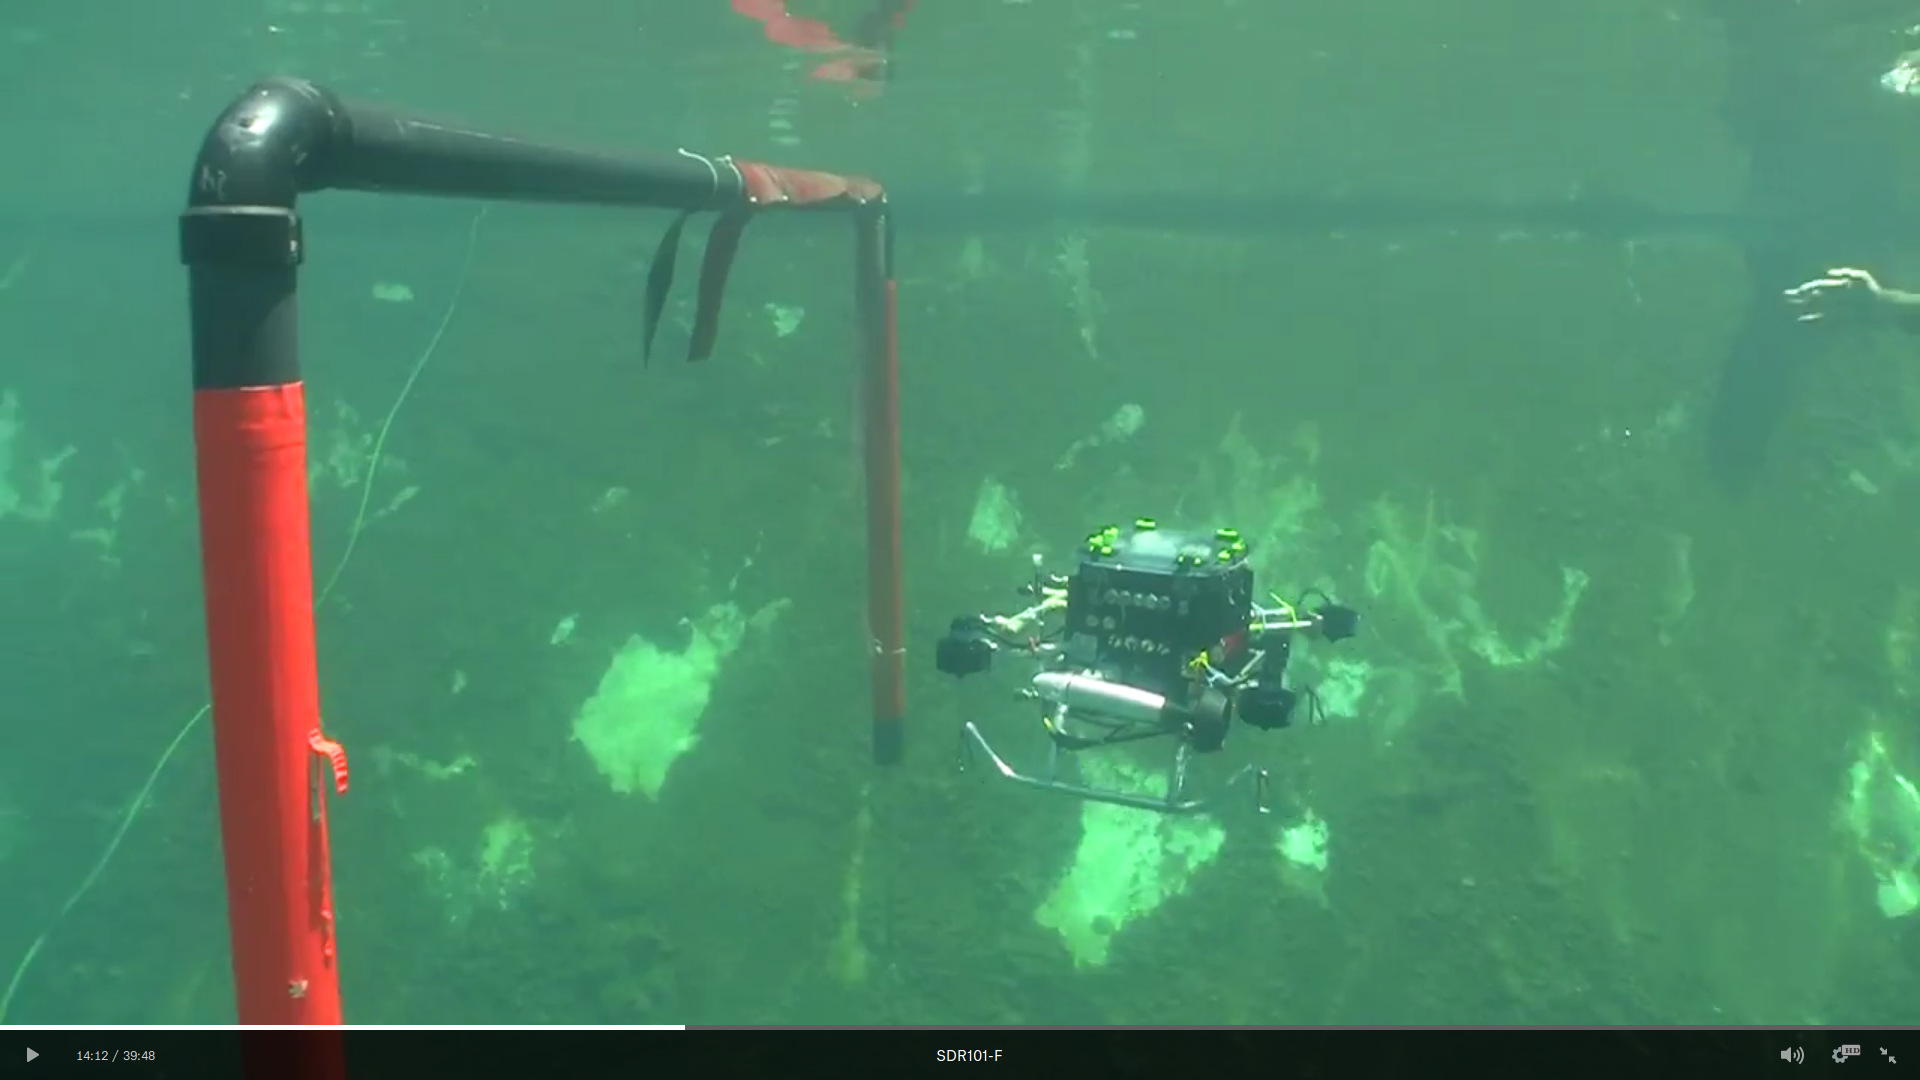gate: (168, 67, 922, 1013)
